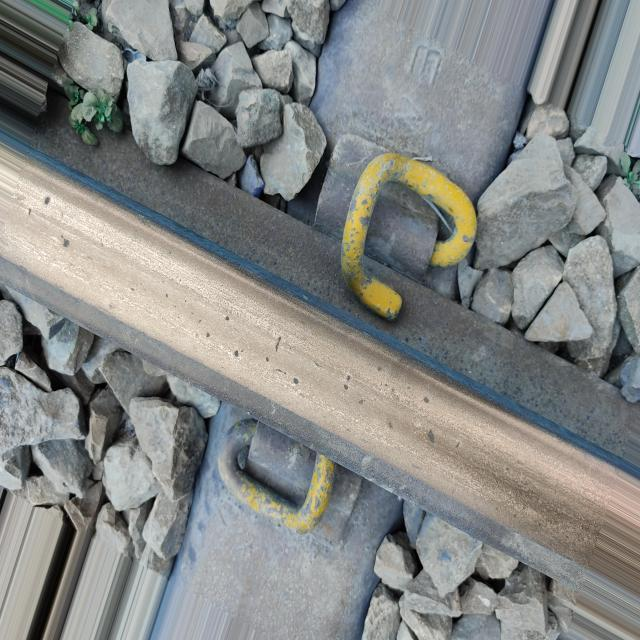Good Fasteners: (290, 135, 491, 350), (202, 403, 376, 575)
